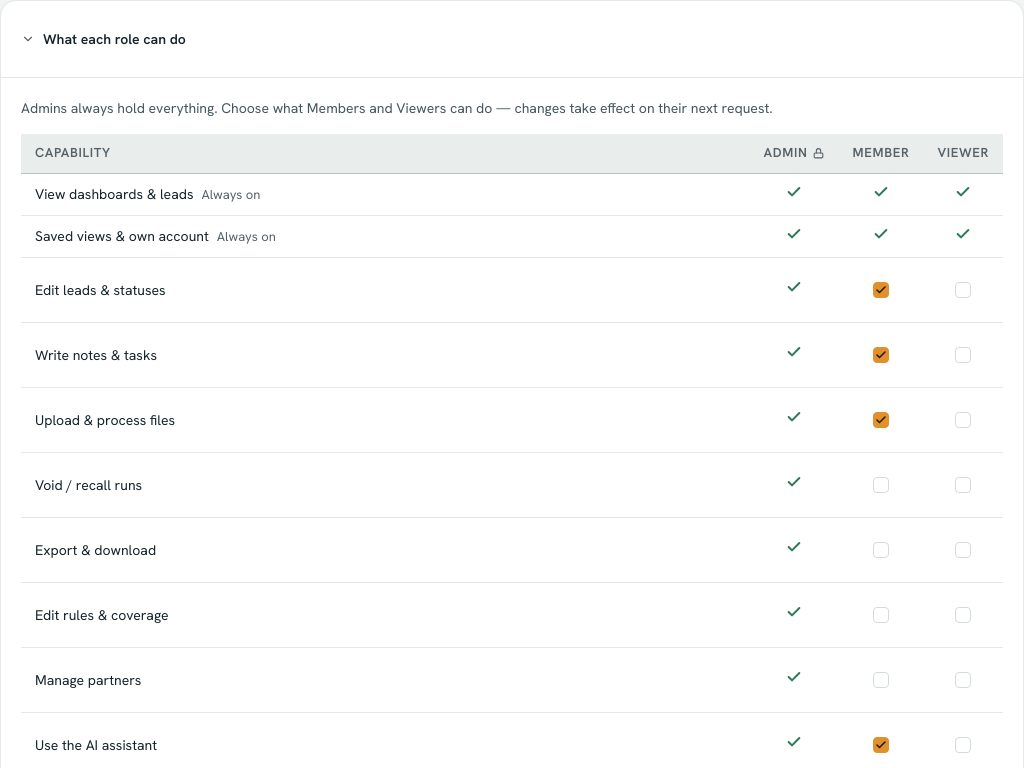
Test: TM-12: the permissions matrix card › Save is disabled until the draft is dirty, then PATCHes the EDITABLE selection only
Click the checkbox named "Void / recall runs for Member" at (881, 485), box [873,477,889,493]
(page scrolled)
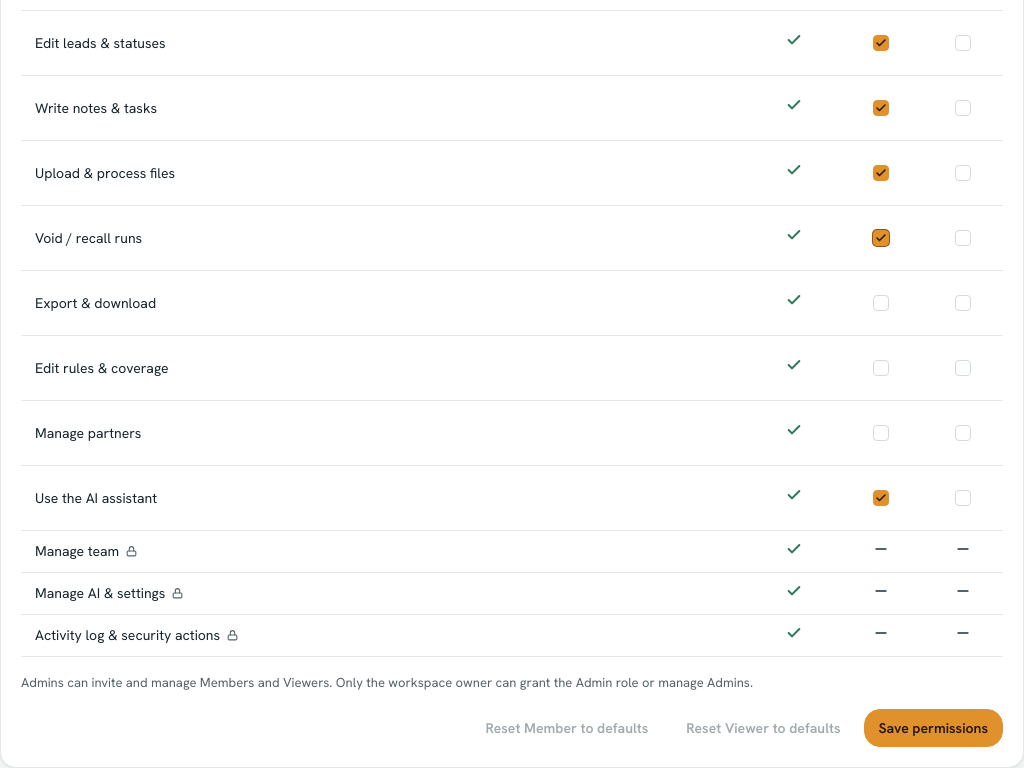
Check: the button "Save permissions" is enabled
Click the button "Save permissions" at (933, 728), box [864,709,1003,747]
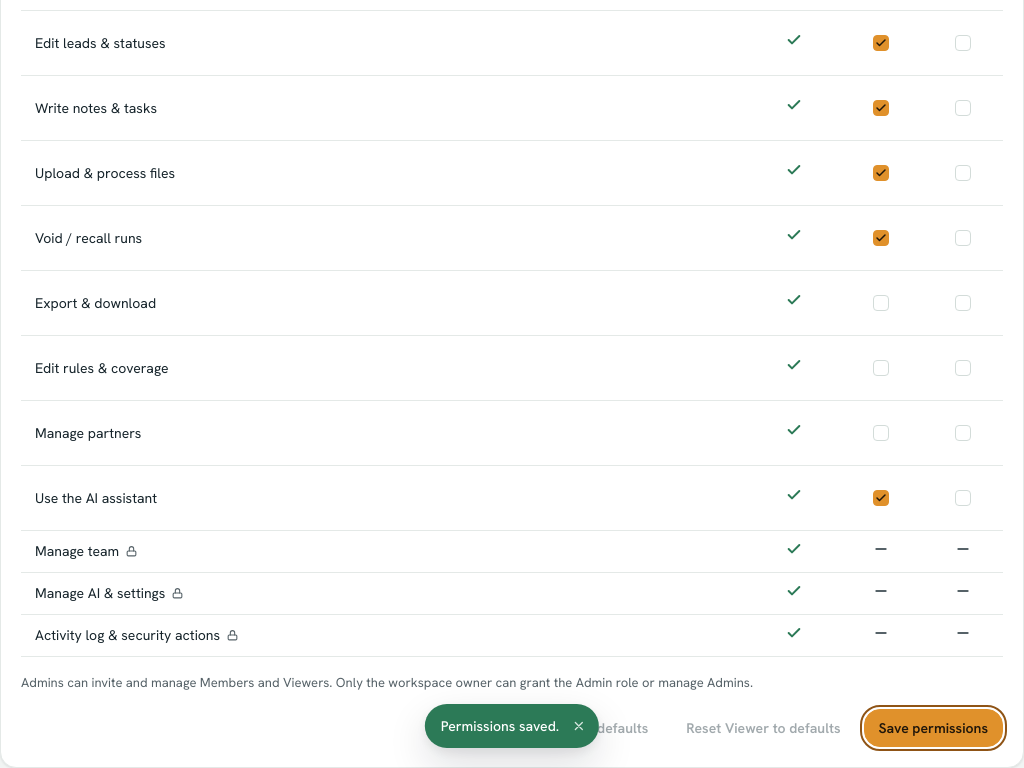
Check: the text "Permissions saved." is shown, box [441,716,559,736]
